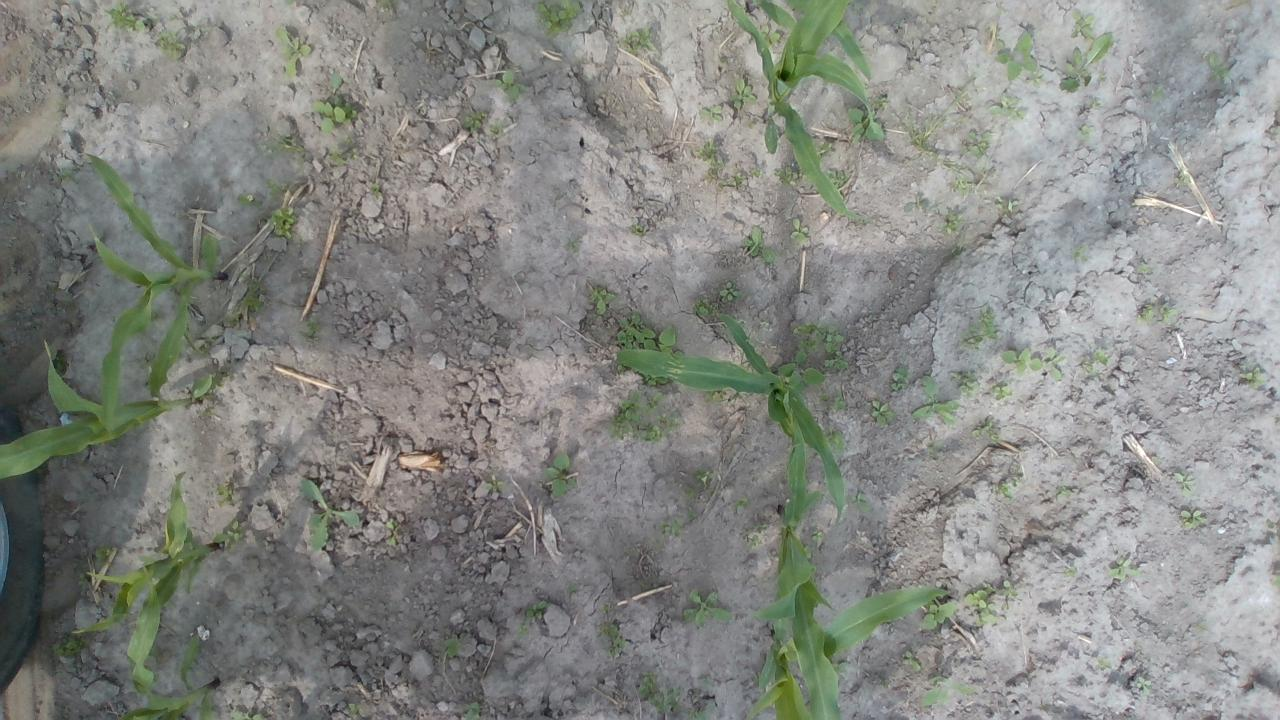Maize: (620, 314, 846, 522), (81, 150, 231, 432), (726, 0, 871, 223), (0, 340, 215, 482), (752, 392, 841, 720), (747, 587, 951, 720), (72, 470, 225, 636), (117, 566, 220, 720), (744, 0, 874, 83)
Weeds: (300, 478, 360, 552), (1060, 32, 1113, 92), (912, 374, 958, 426), (276, 25, 312, 84), (994, 34, 1038, 82), (682, 589, 732, 628), (636, 671, 680, 715), (778, 353, 825, 394), (958, 306, 998, 350), (536, 0, 581, 38), (102, 0, 152, 33), (597, 603, 626, 659), (922, 675, 974, 706), (610, 391, 644, 438), (311, 100, 358, 133), (793, 322, 843, 353), (617, 312, 657, 350), (846, 108, 884, 144), (546, 453, 576, 498), (902, 117, 936, 156), (964, 589, 997, 627), (742, 226, 776, 262), (694, 139, 723, 181), (233, 274, 265, 312), (982, 579, 1019, 611), (1000, 348, 1042, 376), (680, 470, 716, 501), (988, 93, 1027, 121), (642, 414, 679, 442), (492, 68, 524, 99), (517, 601, 547, 634), (152, 30, 185, 60), (922, 601, 955, 631), (267, 207, 296, 240), (328, 136, 360, 165), (1136, 302, 1178, 324), (1237, 360, 1267, 390), (620, 28, 654, 54), (266, 132, 305, 154), (960, 131, 991, 158), (658, 324, 684, 356), (732, 78, 757, 110), (1204, 52, 1232, 80), (1080, 349, 1109, 375), (1108, 557, 1138, 582), (952, 370, 978, 398), (902, 194, 938, 214), (1072, 8, 1094, 40), (589, 288, 614, 316), (1044, 346, 1064, 380), (742, 522, 768, 548), (972, 416, 999, 441), (871, 399, 894, 428), (633, 370, 669, 388), (214, 521, 242, 544), (215, 477, 236, 506), (49, 344, 68, 376), (52, 637, 82, 657), (1180, 509, 1208, 529), (686, 701, 715, 720), (823, 426, 844, 452), (1174, 472, 1194, 499), (938, 214, 965, 234), (462, 111, 486, 133), (76, 572, 96, 598), (660, 518, 686, 538), (819, 393, 846, 412), (264, 176, 288, 197), (993, 196, 1021, 214), (891, 364, 909, 391), (644, 391, 666, 413), (718, 173, 746, 190), (443, 634, 462, 659), (774, 167, 800, 185), (789, 218, 810, 240), (760, 25, 780, 48), (824, 352, 848, 371), (923, 438, 944, 458), (902, 651, 922, 672), (237, 192, 264, 207), (1076, 125, 1096, 145), (720, 281, 740, 301), (851, 492, 870, 513), (328, 72, 344, 96), (564, 233, 583, 253), (694, 298, 713, 318), (992, 382, 1012, 401), (230, 709, 264, 720), (219, 312, 241, 329), (385, 518, 398, 546), (92, 548, 112, 566), (198, 334, 216, 354), (483, 474, 503, 492), (700, 106, 724, 121), (1148, 85, 1166, 104), (827, 170, 846, 188), (211, 371, 231, 388), (1136, 676, 1152, 697), (950, 178, 971, 194), (1070, 246, 1088, 264), (55, 165, 74, 182), (305, 316, 320, 337), (702, 390, 728, 402), (996, 483, 1014, 500), (1172, 170, 1190, 187), (464, 702, 481, 720), (1012, 465, 1026, 486), (1095, 654, 1112, 671), (348, 702, 366, 718), (628, 220, 646, 236), (950, 240, 966, 258), (730, 497, 750, 511), (818, 139, 833, 157), (166, 7, 185, 21), (831, 662, 850, 676), (1226, 0, 1250, 10), (1056, 487, 1072, 500), (488, 122, 504, 134), (1136, 264, 1154, 274), (872, 97, 888, 108), (811, 530, 824, 543), (1062, 566, 1076, 578), (564, 582, 578, 594), (1086, 99, 1104, 108), (1272, 570, 1280, 590), (686, 507, 698, 520), (803, 545, 813, 560), (378, 0, 396, 8), (699, 675, 712, 685), (370, 184, 380, 197), (878, 678, 889, 689), (1266, 520, 1278, 530), (615, 363, 627, 373), (752, 167, 762, 178), (1150, 456, 1160, 465), (282, 0, 294, 7), (1274, 126, 1280, 138), (866, 314, 874, 323), (996, 8, 1005, 15)
